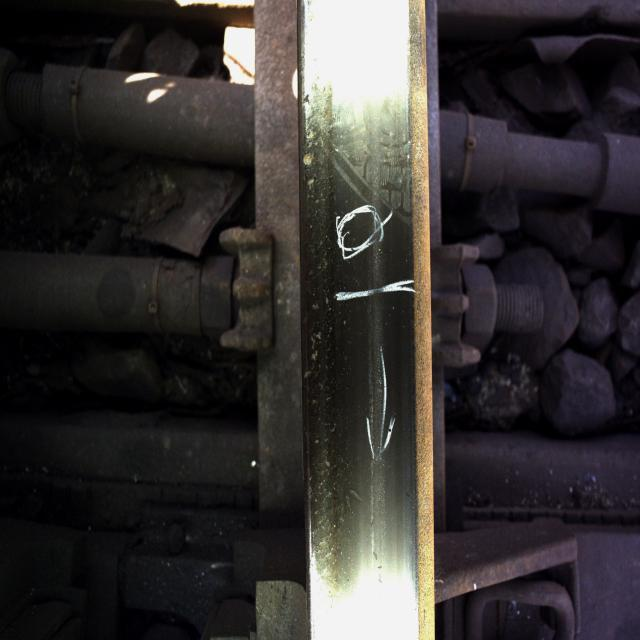crack: (318, 168, 427, 504), (304, 50, 411, 168)
